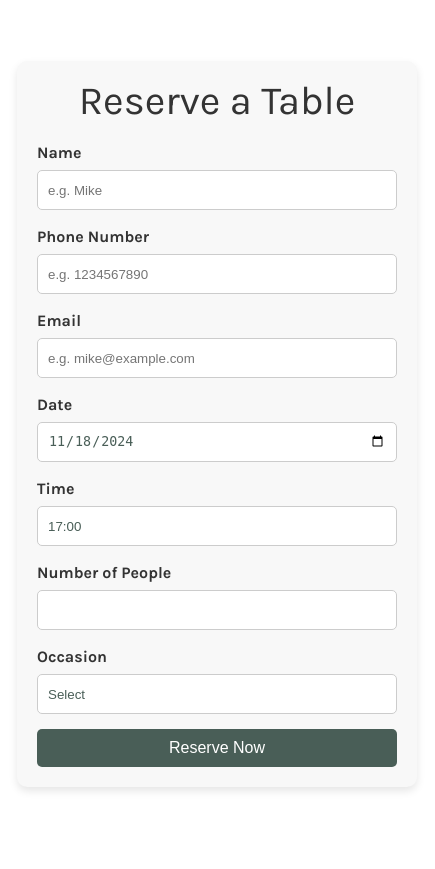
Test: Form validation logic › shows error if phone number is invalid
In the field labelled "Phone Number": (217, 274) [37,254,397,294], type "123"
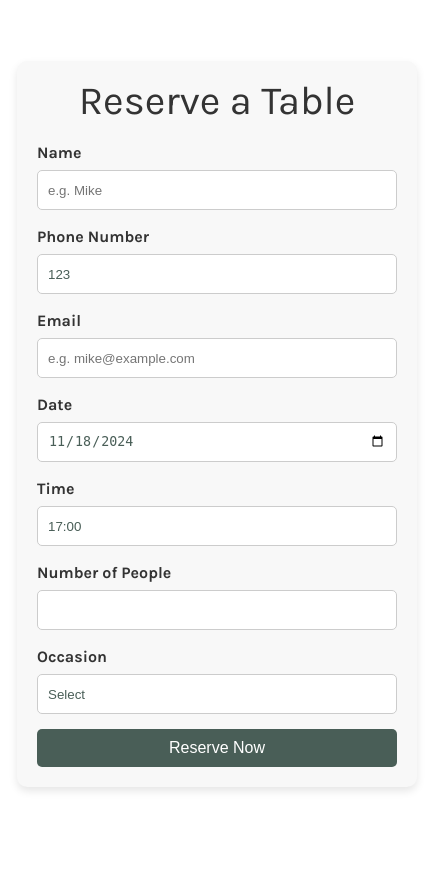
Click the button "Reserve Now": (217, 748) [37,729,397,767]
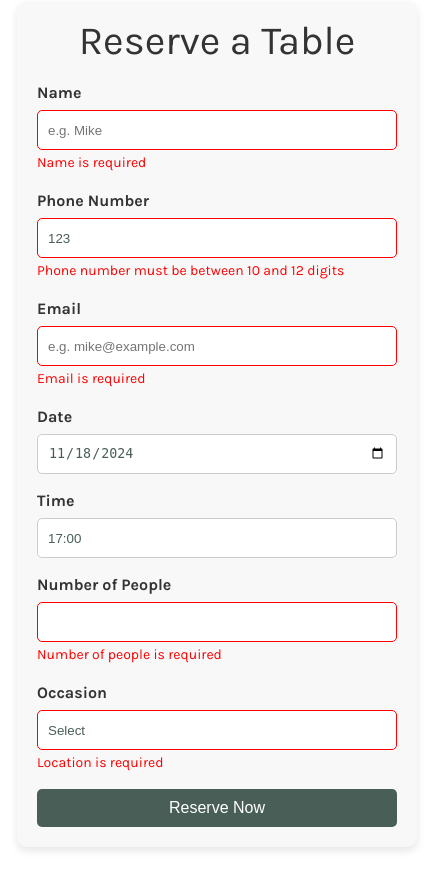
Check: the text "Phone number must be between 10 and 12 digits" is shown, box [37,262,344,279]
